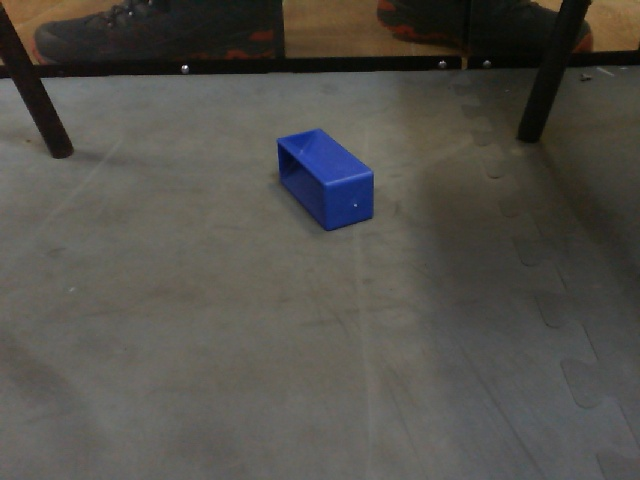BlueSample: (272, 122, 381, 240)
